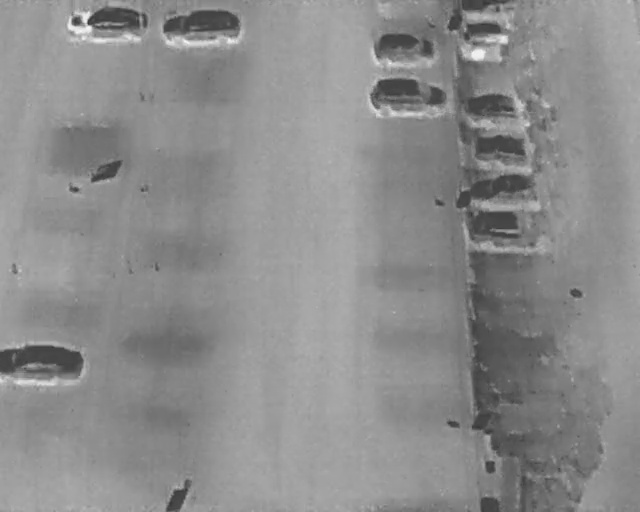Car: (0, 342, 87, 385), (366, 76, 452, 118), (65, 3, 151, 43), (161, 6, 244, 47), (466, 207, 544, 245), (463, 91, 538, 126), (372, 31, 440, 67), (470, 132, 545, 164), (466, 171, 543, 202), (460, 21, 515, 45), (457, 0, 519, 19)
